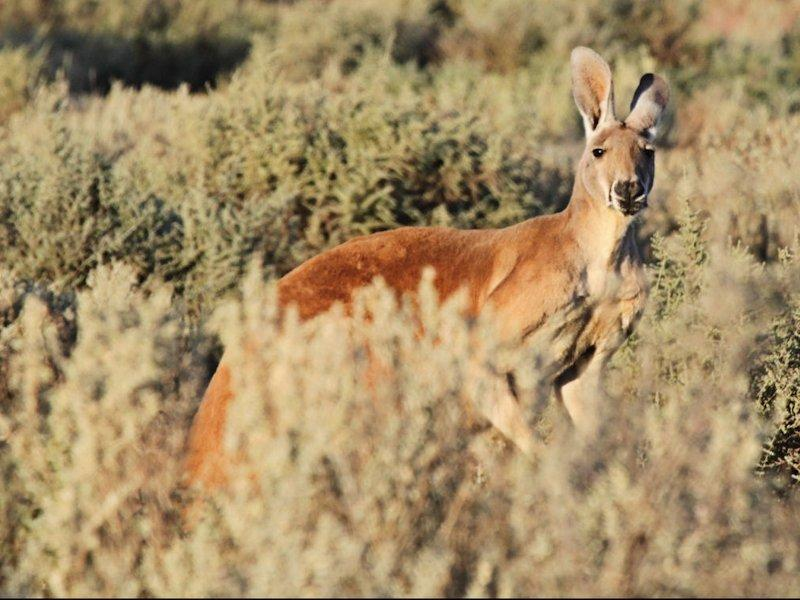Red kangaroo: (169, 47, 679, 502)
